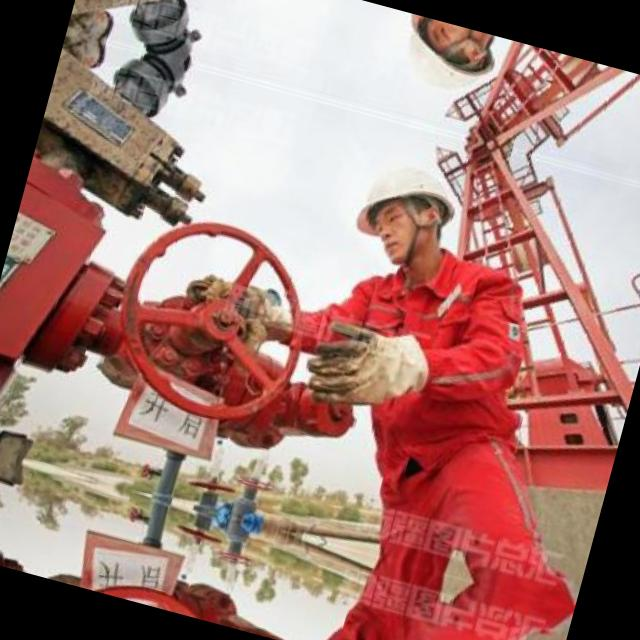helmet: (332, 134, 478, 286), (377, 9, 512, 122)
